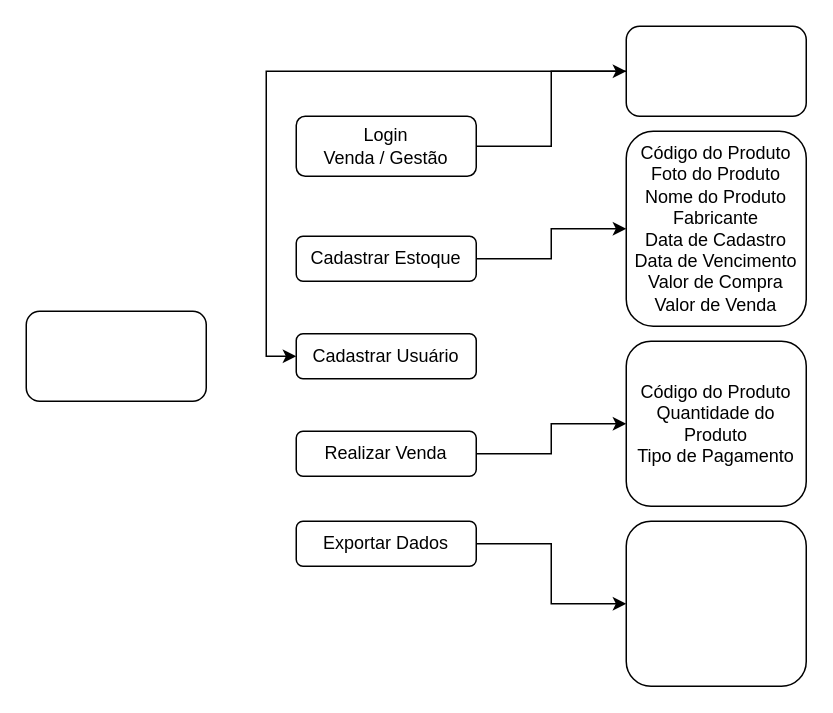
This 833x713 diagram has some shape labels left out. Each missing label, with the box of its shape:
De usuários De estoque De Venda: (625, 520, 806, 686)
email senha tipo: (625, 25, 806, 116)
Mercadinho Baratino: (25, 310, 206, 401)
